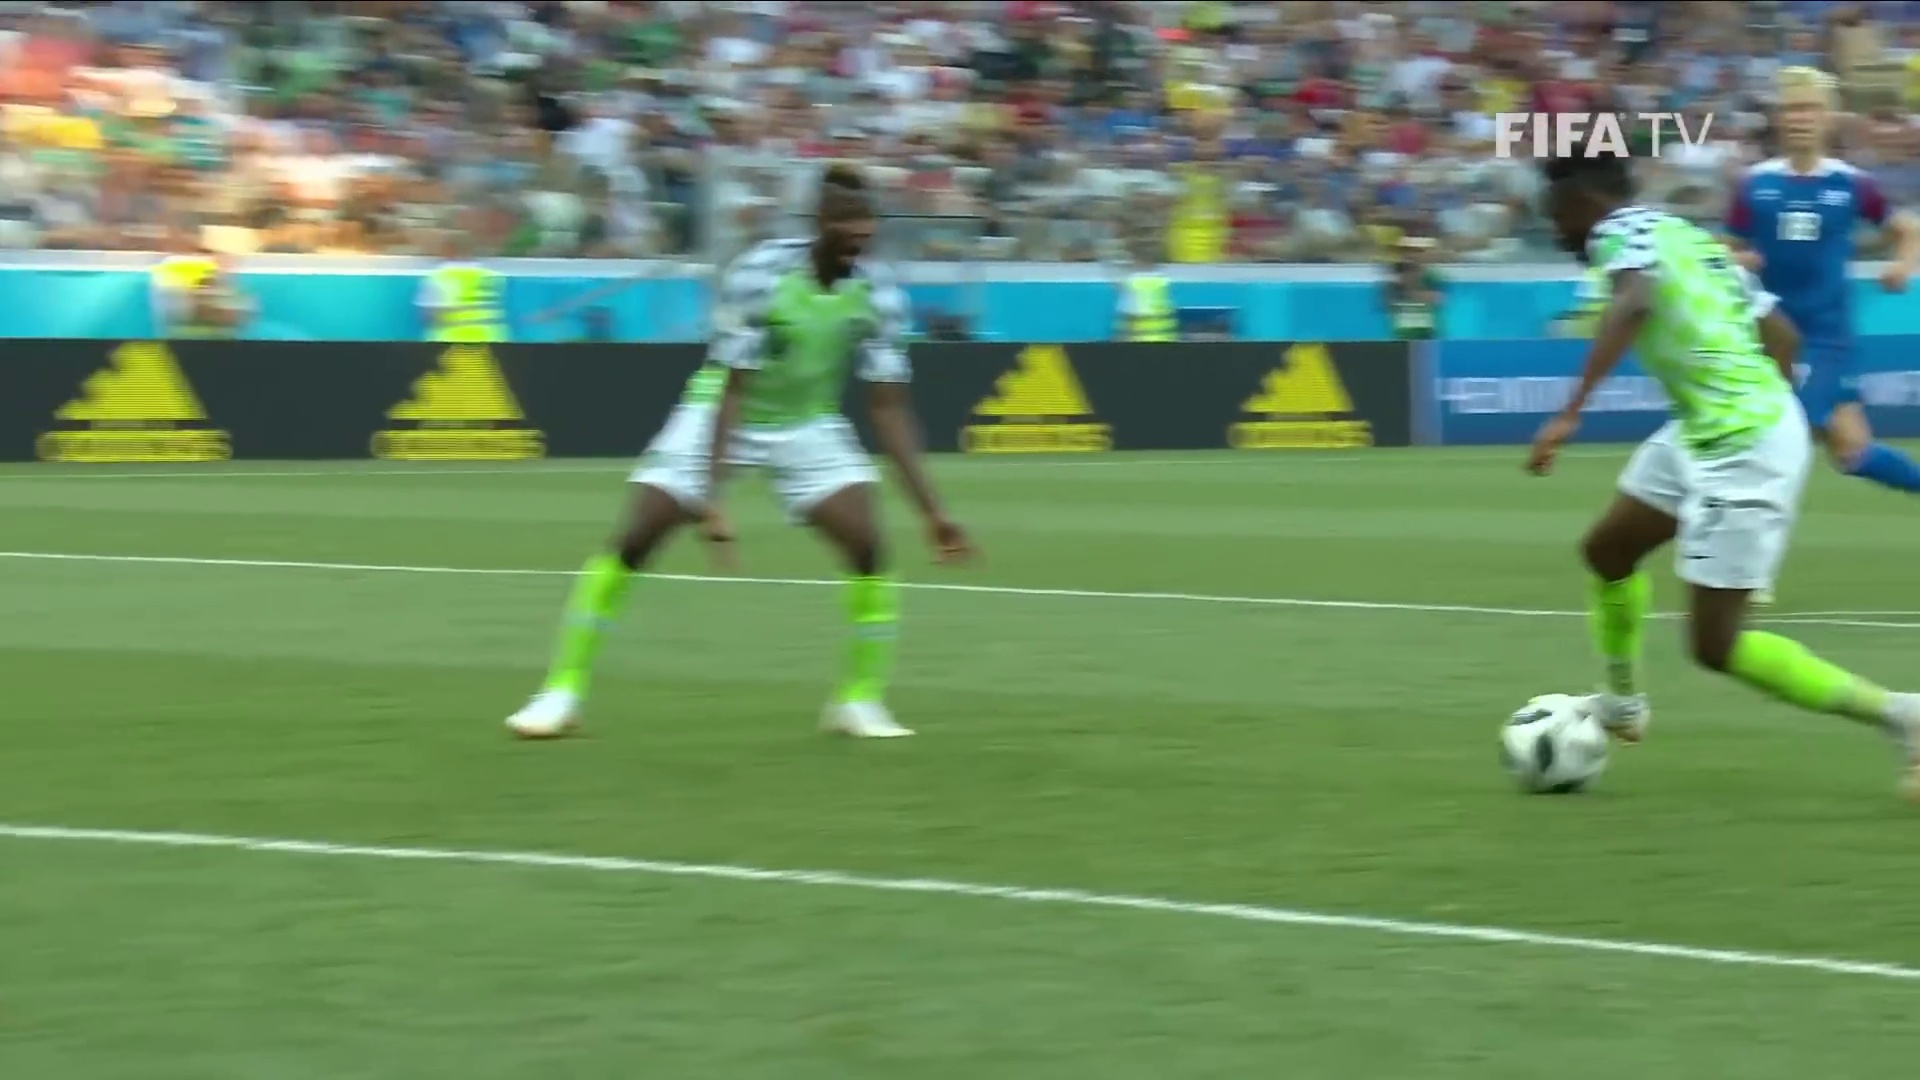ball: (1503, 696, 1610, 788)
person: (520, 167, 963, 741), (1534, 145, 1920, 791), (1722, 57, 1920, 487)
